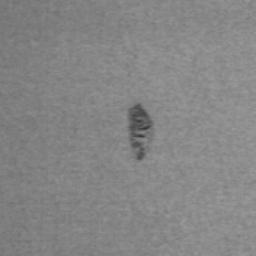Secondary rust skin: (128, 105, 153, 161)
